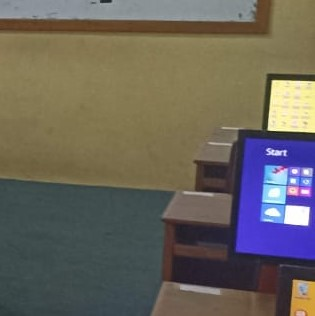monitor: (227, 129, 314, 265), (275, 264, 315, 316)
